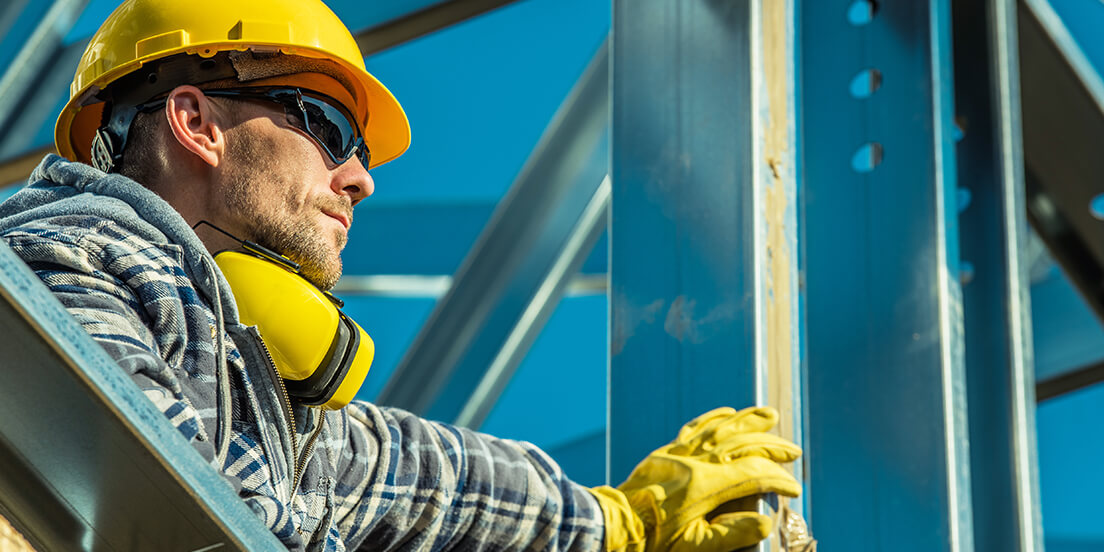With Helmet: (22, 1, 415, 293)
